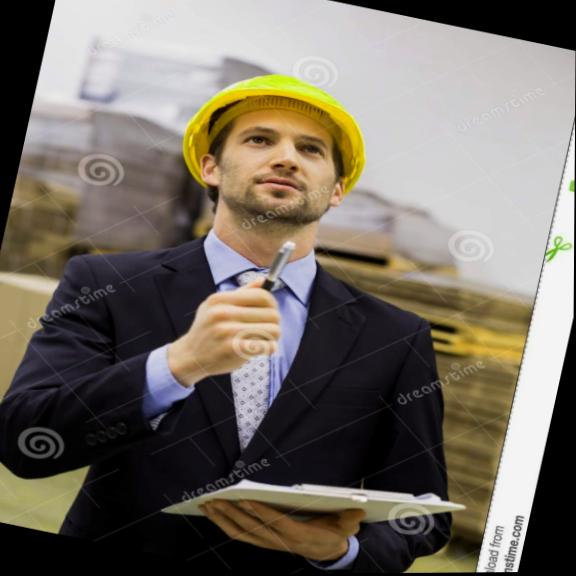no_safety_vest: (21, 209, 443, 576)
